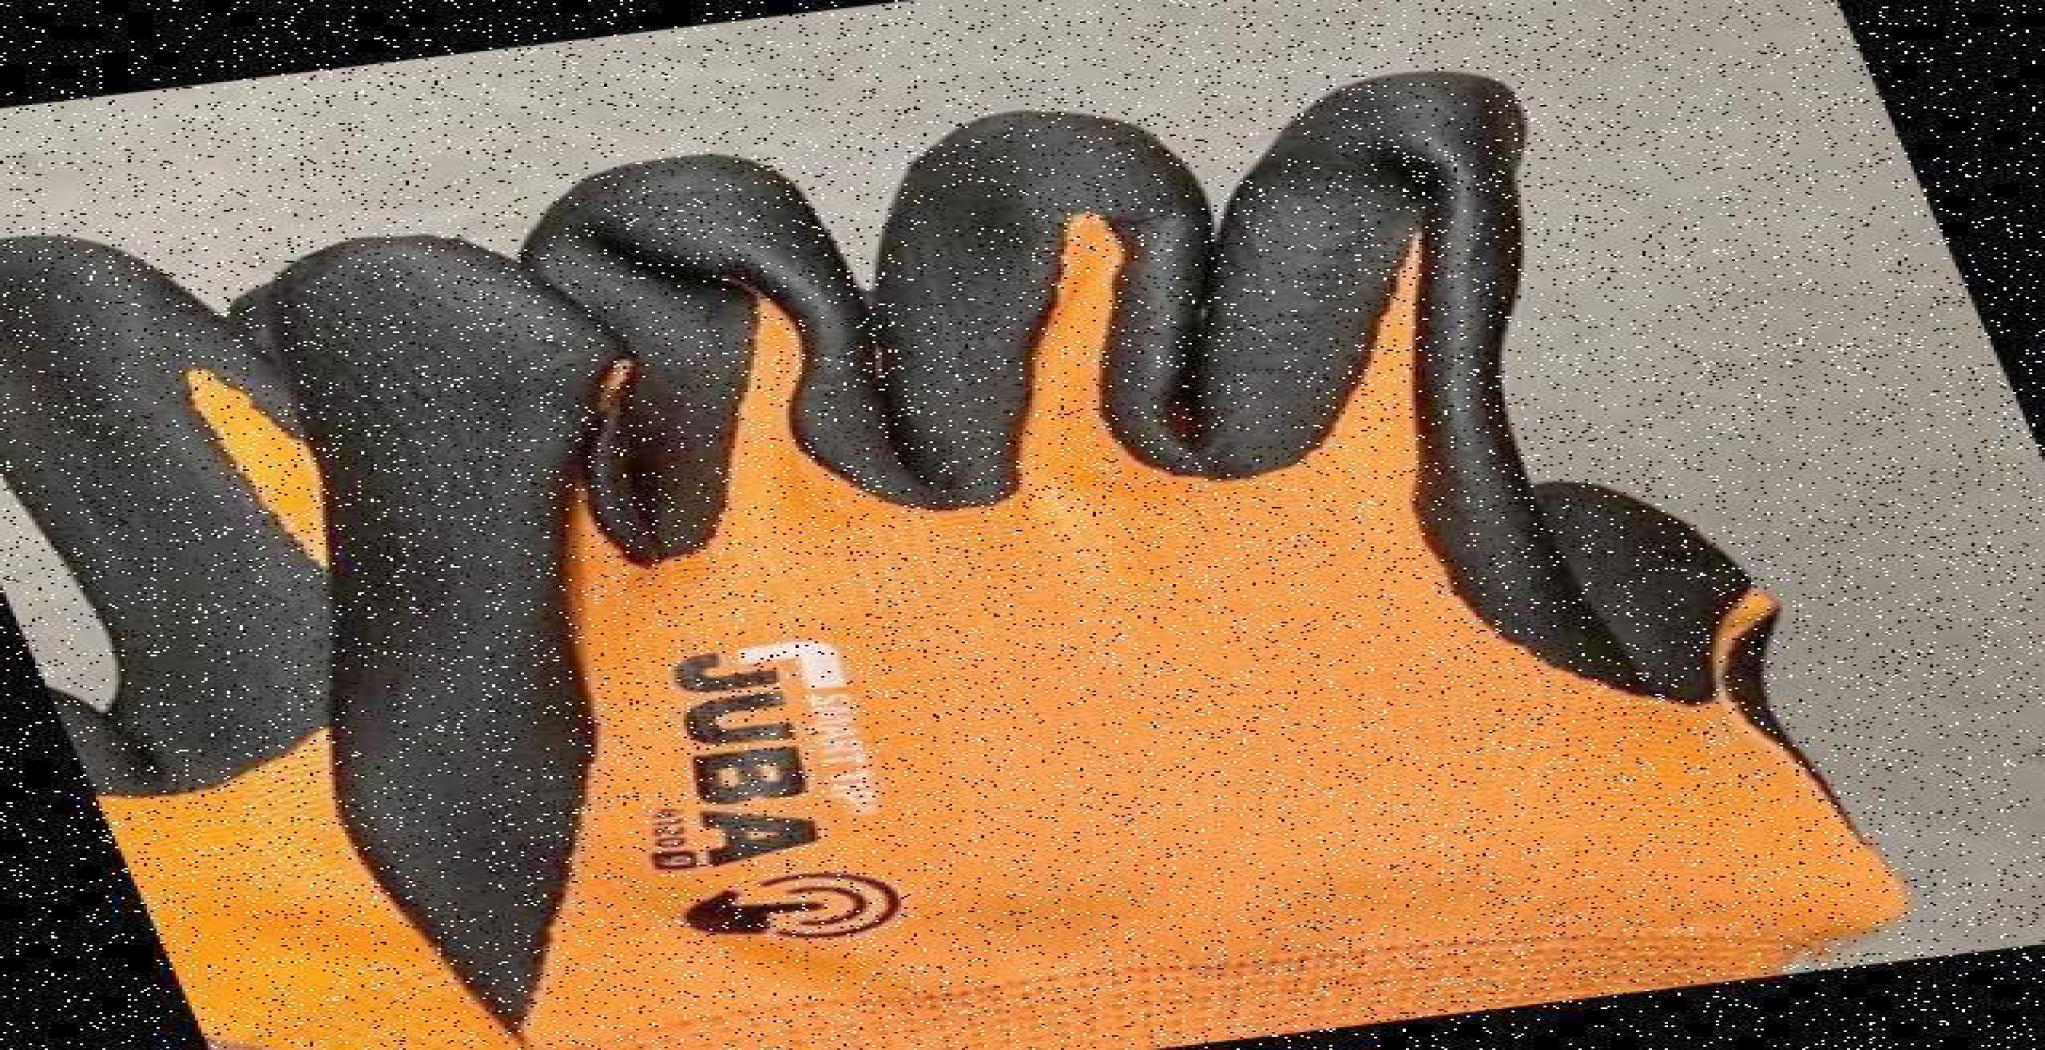gloved: (182, 157, 1934, 996)
